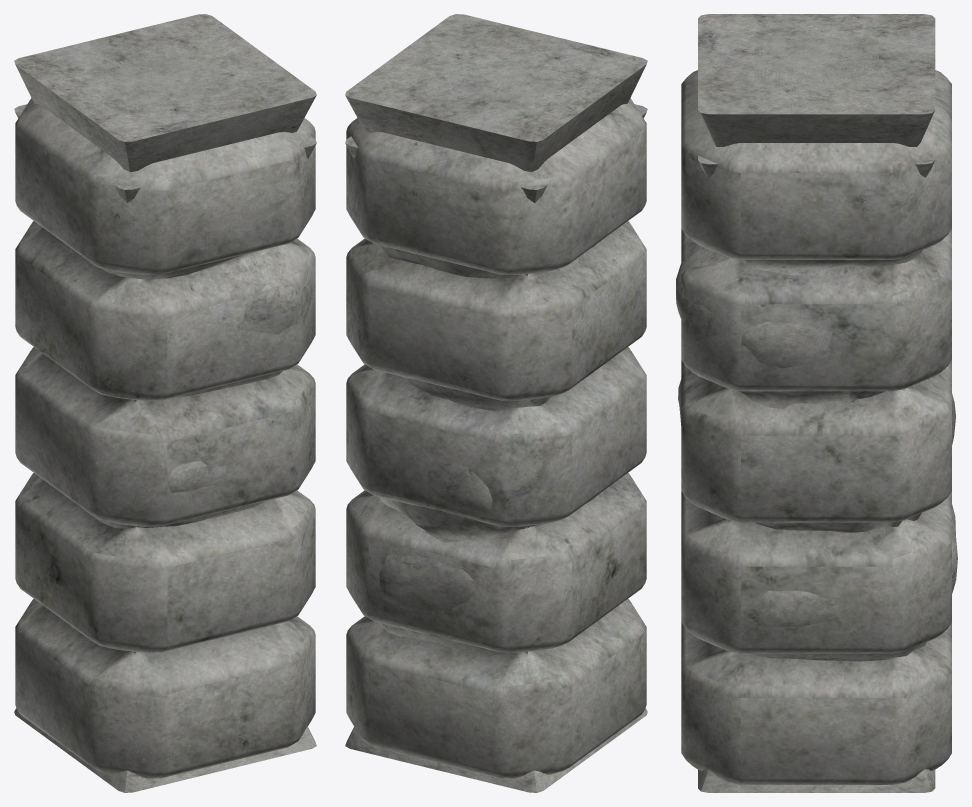
Rendered from Trim.fbx.
3 renders of one model, left to right at view 1: azimuth 30°, elevation 25°; view 2: azimuth 150°, elevation 25°; view 3: azimuth 270°, elevation 25°, orthographic. The views are drawn at different scales.
Visible parts, largest first — view 1: End Pillar 02a Big, End Pillar 01 Big Tall, End Pillar 02b Big, End Pillar 01 Tall, End Pillar 01 Big; view 2: End Pillar 02a Big, End Pillar 01 Big Tall, End Pillar 02b Big, End Pillar 01 Big, End Pillar 01 Tall; view 3: End Pillar 02a Big, End Pillar 01 Big Tall, End Pillar 02b Big, End Pillar 01 Tall, End Pillar 01 Big.
Boxes of the visible parts, <box> form: End Pillar 02a Big: <box>15,98,315,778</box>; End Pillar 01 Big Tall: <box>14,14,316,172</box>; End Pillar 02b Big: <box>58,239,313,528</box>; End Pillar 01 Tall: <box>86,45,244,110</box>; End Pillar 01 Big: <box>14,104,316,792</box>; End Pillar 02a Big: <box>346,98,646,778</box>; End Pillar 01 Big Tall: <box>345,14,647,172</box>; End Pillar 02b Big: <box>378,244,599,654</box>; End Pillar 01 Big: <box>345,104,647,792</box>; End Pillar 01 Tall: <box>431,44,575,110</box>; End Pillar 02a Big: <box>681,70,951,784</box>; End Pillar 01 Big Tall: <box>698,14,935,146</box>; End Pillar 02b Big: <box>676,244,957,661</box>; End Pillar 01 Tall: <box>754,38,878,90</box>; End Pillar 01 Big: <box>698,155,935,792</box>.
Size of the model in its own units: 1.19 by 3.24 by 1.22.
